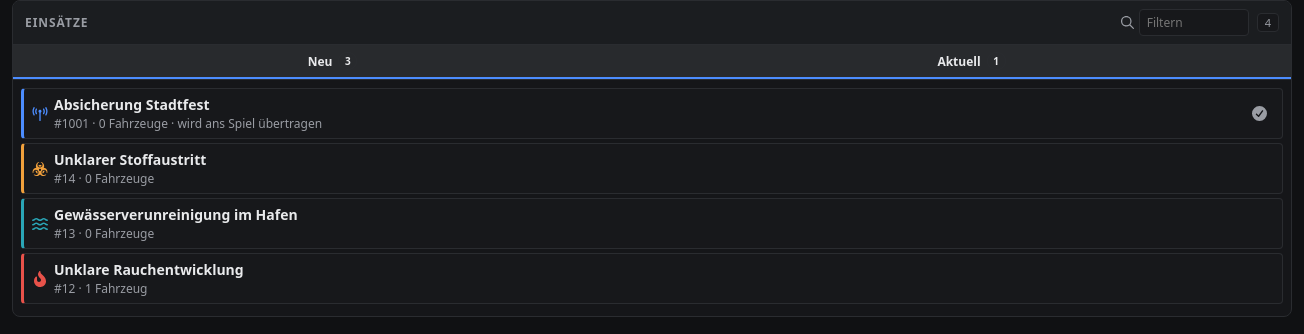
Test case: Einsatzübersicht › kombiniert die Filter für neue und laufende Einsätze
Check: the text "Absicherung Stadtfest" is shown, box x1=54 y1=95 x2=210 y2=114
Check: the text "Unklare Rauchentwicklung" is shown, box x1=54 y1=260 x2=244 y2=279
Click the button "Neu 3" at x=332, y=62, box x1=13 y1=45 x2=652 y2=79
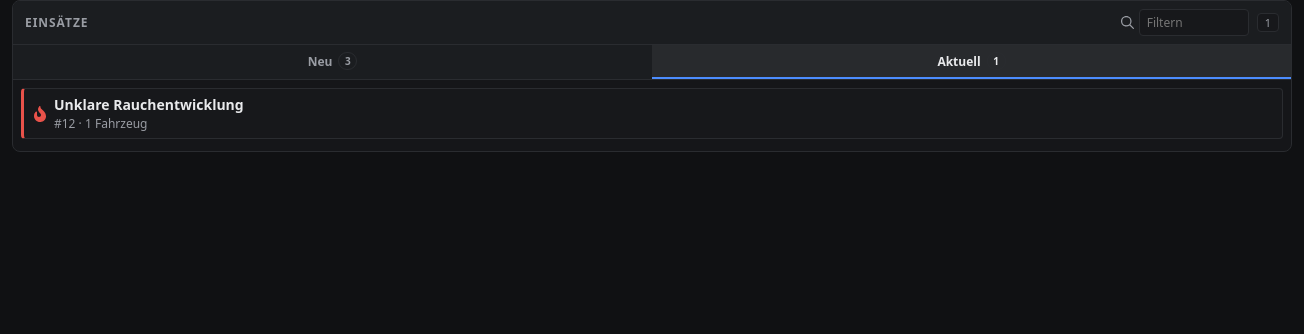
Check: the text "Unklare Rauchentwicklung" is shown, box x1=54 y1=95 x2=244 y2=114
Check: the button "Absicherung Stadtfest" is gone
